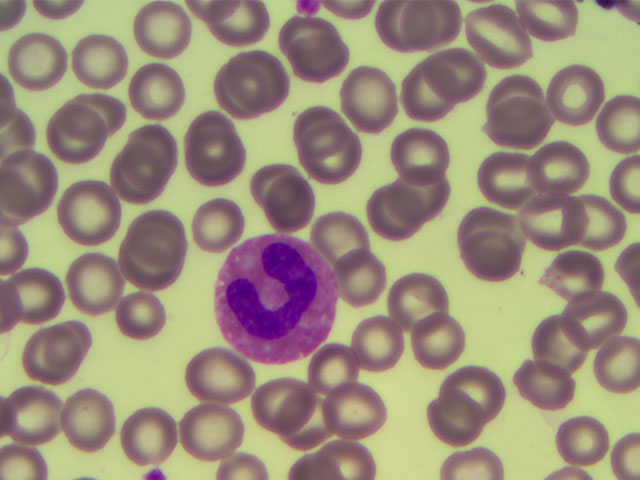Platelets: (297, 1, 318, 17), (147, 469, 169, 480)
RBC: (515, 191, 584, 247), (422, 47, 491, 103), (394, 67, 463, 123), (61, 387, 117, 452), (548, 59, 604, 124), (342, 67, 398, 132), (232, 54, 288, 119), (3, 154, 59, 219), (332, 247, 388, 312), (530, 318, 586, 383), (443, 361, 499, 426), (428, 384, 484, 449), (410, 304, 466, 369), (392, 273, 448, 338), (349, 315, 405, 380), (255, 370, 311, 435), (193, 345, 249, 410), (183, 399, 239, 464), (124, 125, 180, 190), (108, 143, 164, 208), (10, 28, 66, 93), (49, 100, 105, 165), (65, 250, 121, 315), (61, 180, 117, 245), (124, 223, 180, 288), (122, 410, 177, 464), (548, 248, 606, 299), (556, 415, 609, 470), (306, 342, 358, 398), (279, 391, 335, 442), (15, 265, 61, 326), (330, 384, 385, 435), (476, 8, 527, 63), (21, 328, 74, 380), (367, 190, 420, 242), (267, 177, 320, 229), (565, 297, 623, 343), (76, 30, 124, 85), (10, 385, 59, 438), (118, 288, 167, 339), (521, 362, 573, 410), (200, 192, 243, 250), (215, 1, 273, 44), (185, 134, 244, 176), (140, 1, 187, 52), (133, 67, 180, 118), (327, 438, 383, 480), (468, 234, 521, 278), (598, 340, 640, 393), (601, 95, 640, 152), (572, 198, 618, 246), (488, 99, 540, 138), (316, 211, 363, 254), (540, 143, 587, 186), (486, 155, 533, 198), (465, 207, 512, 250), (394, 133, 441, 176), (402, 169, 449, 212), (307, 134, 354, 177), (293, 107, 340, 150), (275, 18, 331, 54), (446, 446, 501, 480), (1, 431, 38, 480), (492, 77, 538, 115), (416, 327, 462, 365), (287, 449, 342, 480), (378, 1, 424, 38), (527, 1, 573, 38), (411, 1, 457, 38), (56, 313, 90, 362), (1, 111, 40, 153), (218, 448, 268, 480), (81, 93, 128, 127), (298, 38, 348, 69), (616, 150, 640, 209), (610, 436, 640, 480), (618, 241, 640, 294), (1, 230, 28, 273), (1, 279, 19, 329), (544, 465, 602, 480), (130, 206, 177, 223), (328, 1, 366, 22), (34, 1, 80, 18), (1, 1, 27, 26), (1, 400, 17, 438), (1, 79, 14, 123), (618, 1, 640, 25), (597, 1, 634, 11), (69, 473, 105, 480)
WBC: (218, 239, 332, 358)
